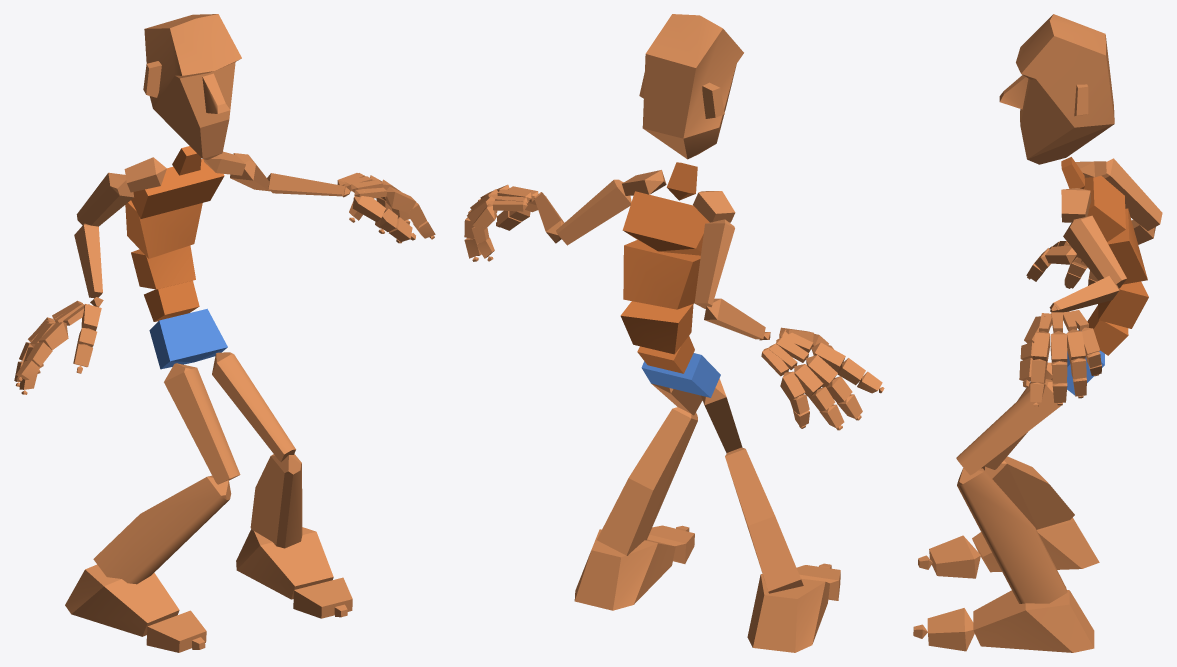
File: prueba259.obj
3 renders of one model, left to right at view 1: azimuth 30°, elevation 25°; view 2: azimuth 150°, elevation 25°; view 3: azimuth 270°, elevation 25°, orthographic. The views are drawn at different scales.
Visible parts, largest first — view 1: BOPED_Head, BOPED_R_leg, BOPED_R_foot, BOPED_R_foot01, BOPED_L_leg, BOPED_R_legup, Bone01, BOPED_L_legup, Bone04, Bone05, Bone03, BOPED_R_arm_upper (+9 smaller); view 2: BOPED_Head, BOPED_L_leg, BOPED_R_foot01, BOPED_R_foot, BOPED_R_leg, Bone04, Bone05, Bone03, BOPED_R_arm_upper, BOPED_L_arm_upper, Bone01, BOPED_R_legup (+9 smaller); view 3: BOPED_Head, BOPED_L_leg, BOPED_R_foot01, BOPED_L_legup, BOPED_R_leg, BOPED_R_foot, BOPED_L_arm_upper, Bone05, BOPED_R_arm_upper, BOPED_R_foot_toe01, BOPED_R_foot_toe04, Bone03 (+12 smaller).
Boxes of the visible parts, x1,y1,x2,y2 form: BOPED_Head: (143, 14, 241, 159); BOPED_R_leg: (93, 475, 231, 584); BOPED_R_foot: (65, 564, 179, 636); BOPED_R_foot01: (236, 527, 333, 599); BOPED_L_leg: (250, 454, 302, 548); BOPED_R_legup: (164, 363, 240, 484); Bone01: (149, 308, 227, 369); BOPED_L_legup: (212, 352, 295, 461); Bone04: (125, 200, 202, 258); Bone05: (131, 159, 224, 218); Bone03: (131, 245, 195, 289); BOPED_R_arm_upper: (76, 172, 133, 226); BOPED_Head: (639, 14, 743, 159); BOPED_L_leg: (597, 407, 697, 555); BOPED_R_foot01: (574, 529, 675, 610); BOPED_R_foot: (747, 574, 829, 652); BOPED_R_leg: (725, 447, 803, 593); Bone04: (623, 240, 700, 309); Bone05: (622, 191, 709, 255); Bone03: (620, 301, 693, 354); BOPED_R_arm_upper: (694, 219, 734, 308); BOPED_L_arm_upper: (556, 179, 631, 245); Bone01: (641, 353, 720, 397); BOPED_R_legup: (701, 378, 742, 453); BOPED_Head: (999, 14, 1114, 164); BOPED_L_leg: (957, 468, 1067, 603); BOPED_R_foot01: (973, 590, 1094, 652); BOPED_L_legup: (956, 379, 1062, 475); BOPED_R_leg: (981, 456, 1074, 529); BOPED_R_foot: (972, 517, 1099, 572); BOPED_L_arm_upper: (1063, 215, 1126, 288); Bone05: (1084, 175, 1125, 241); BOPED_R_arm_upper: (1101, 158, 1162, 230); BOPED_R_foot_toe01: (929, 535, 980, 578); BOPED_R_foot_toe04: (927, 608, 974, 651); Bone03: (1098, 281, 1148, 328).
Bounding box in the file's own units: 130 × 175 × 68.02.
